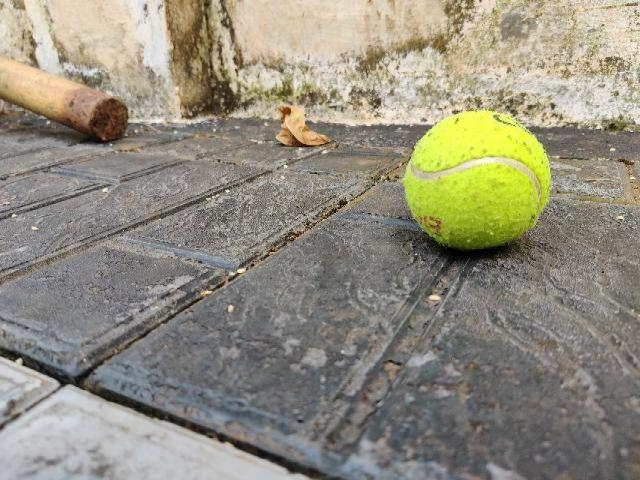tennis-ball: (401, 106, 551, 254)
